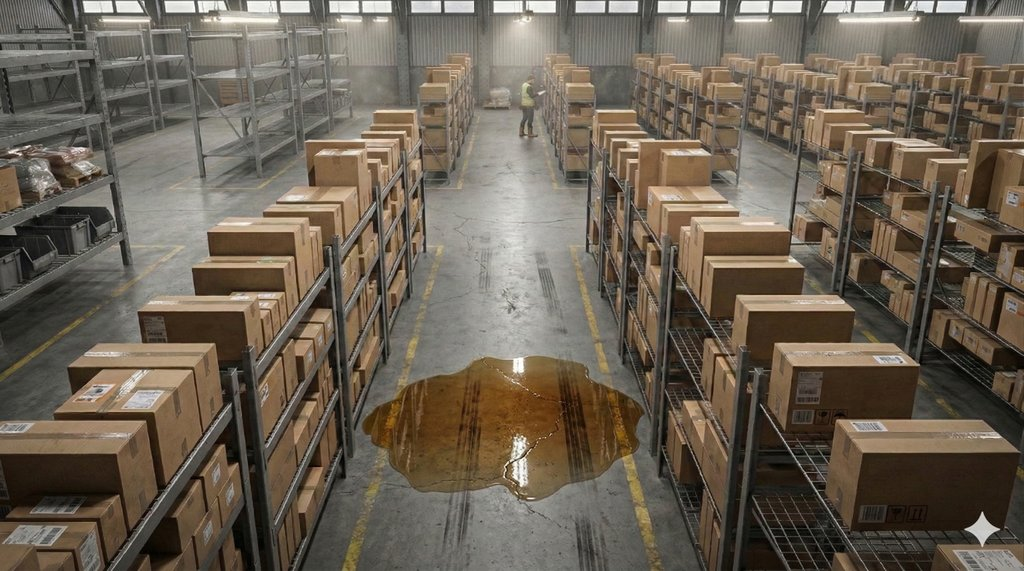empty_shelf: (166, 4, 302, 165), (1, 21, 90, 121), (93, 26, 158, 138), (307, 9, 360, 129)
person: (498, 59, 549, 150)
spill: (369, 284, 630, 535)
